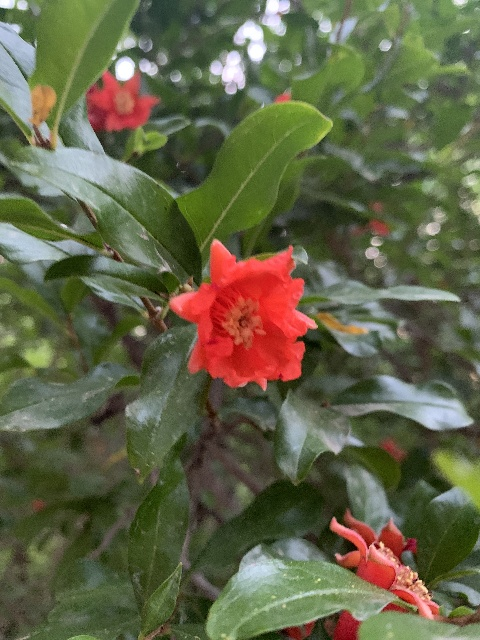flower: (169, 238, 316, 391), (328, 508, 438, 640), (87, 66, 159, 133)
